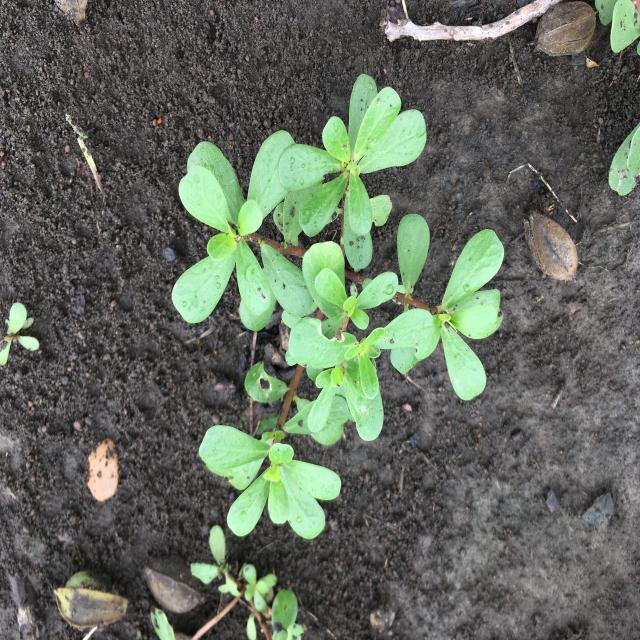Purslane: (172, 73, 505, 539), (190, 524, 303, 640), (0, 302, 40, 366)
